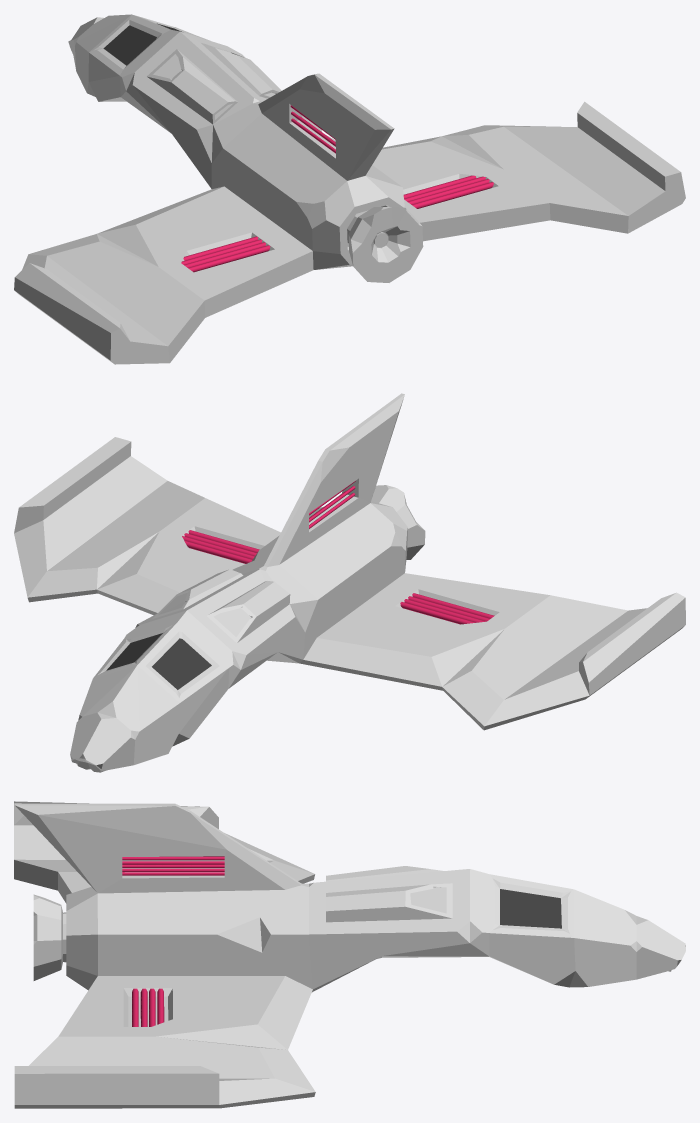
The model's file is analysis_ship_01.glb.
The picture shows the model from 3 angles, top to bottom: view 1: azimuth 30°, elevation 25°; view 2: azimuth 150°, elevation 25°; view 3: azimuth 270°, elevation 25°; orthographic projection. The views are drawn at different scales.
Visible parts, largest first — view 1: ScoutShipCore; view 2: ScoutShipCore; view 3: ScoutShipCore.
Part boxes in pixels (<box>): ScoutShipCore: <box>14,14,685,364</box>; ScoutShipCore: <box>14,393,685,772</box>; ScoutShipCore: <box>14,801,685,1108</box>.
Bounding box in the file's own units: 2.72 × 0.8108 × 2.59.
